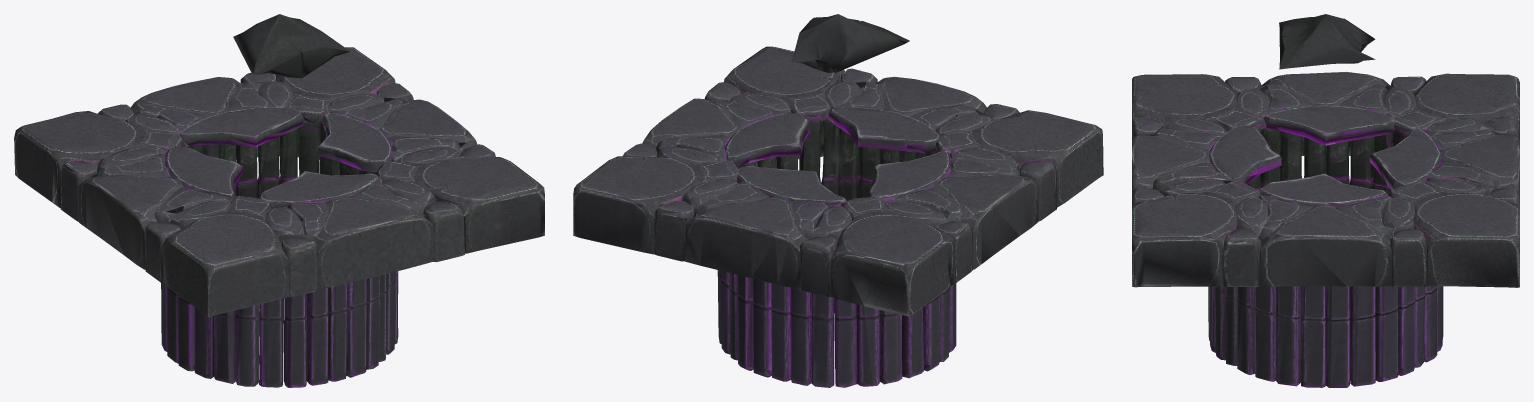
The model's file is void_sprung.glb.
3 views of the same model, side by side, from view 1: azimuth 30°, elevation 25°; view 2: azimuth 150°, elevation 25°; view 3: azimuth 270°, elevation 25° (orthographic).
Bounding box in the file's own units: 1 × 0.9277 × 1.
1 material, 1 textured.
